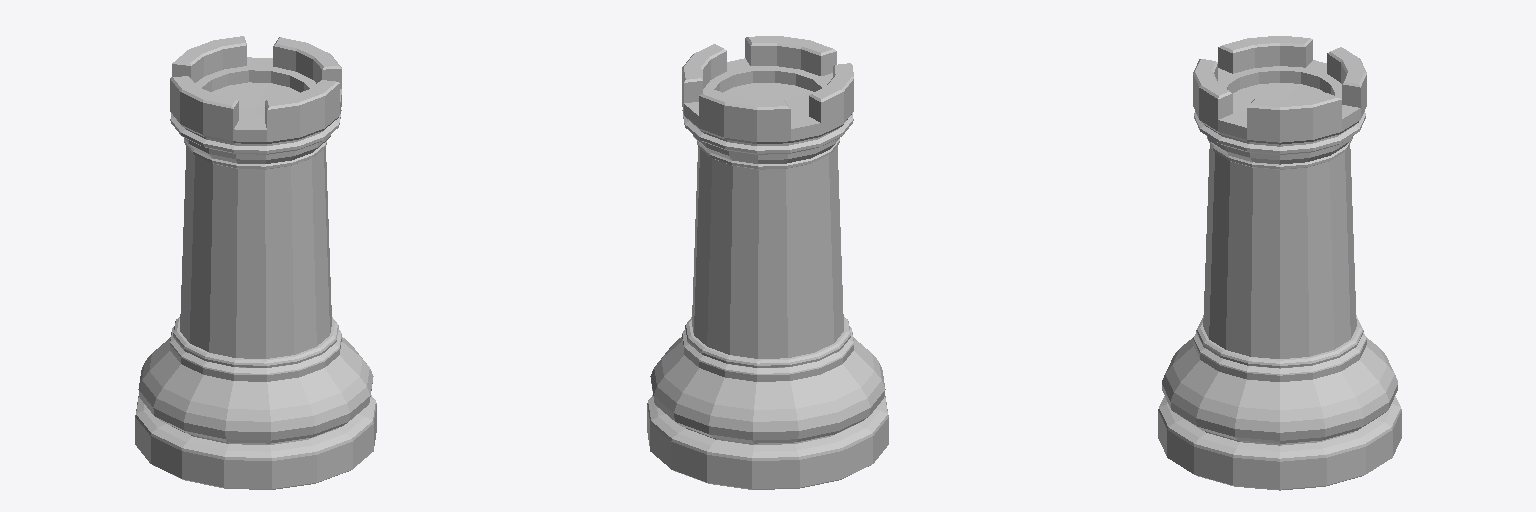
Rendered from ChessPieces_Rook.obj.
3 views of the same model, side by side, from view 1: azimuth 30°, elevation 25°; view 2: azimuth 150°, elevation 25°; view 3: azimuth 270°, elevation 25° (orthographic).
Visible parts, largest first — view 1: Rook_Cylinder.001; view 2: Rook_Cylinder.001; view 3: Rook_Cylinder.001.
Boxes of the visible parts, box(x1,y1,x2,y2) form: Rook_Cylinder.001: box(135, 36, 376, 489); Rook_Cylinder.001: box(647, 36, 888, 489); Rook_Cylinder.001: box(1158, 36, 1401, 490).
Size of the model in its own units: 0.3602 by 0.6022 by 0.3602.